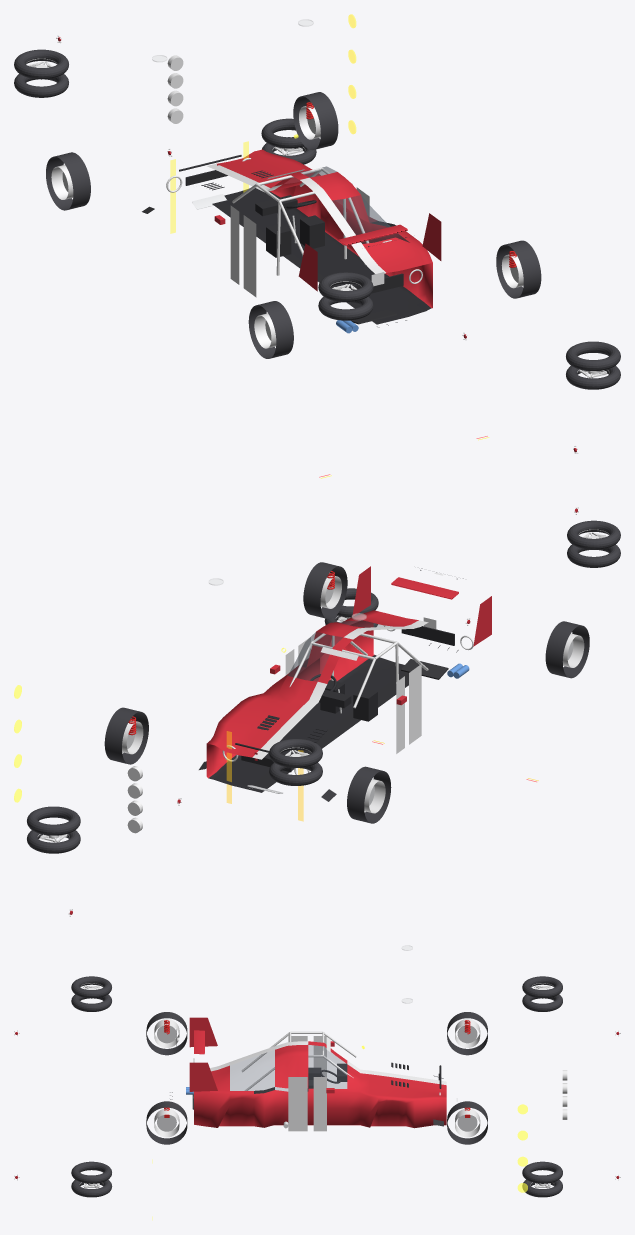
Rendered from APEX_RALLY.glb.
The picture shows the model from 3 angles, top to bottom: view 1: azimuth 30°, elevation 25°; view 2: azimuth 150°, elevation 25°; view 3: azimuth 270°, elevation 25°; orthographic projection. The views are drawn at different scales.
Parts seen in each view (by area): view 1: Unibody_Monocoque, Wheel_RR_Tyre, Wheel_FR_Tyre, Wheel_RL_Tyre, Wheel_FL_Tyre, Wheel_RR_Sidewall_Outer, Wheel_FR_Sidewall_Outer, Wheel_RL_Sidewall_Inner, Door_Stripe_Right, Wheel_RR_Sidewall_Inner, Wheel_FR_Sidewall_Inner, Wheel_FL_Sidewall_Inner (+6 smaller); view 2: Unibody_Monocoque, Wheel_RR_Tyre, Wheel_FR_Tyre, Wheel_FL_Tyre, Wheel_RL_Tyre, Wheel_FL_Sidewall_Inner, Wheel_RR_Sidewall_Outer, Wheel_FR_Sidewall_Outer, Door_Stripe_Right, Wheel_RR_Sidewall_Inner, Wheel_FR_Sidewall_Inner, Wheel_FL_Sidewall_Outer (+6 smaller); view 3: Unibody_Monocoque, Door_Stripe_Left, Placard_Left, Wing_Endplate_Left, Wheel_FL_Sidewall_Inner, Wheel_RL_Sidewall_Inner, Wheel_RR_Sidewall_Outer, Wheel_FR_Sidewall_Outer, Wheel_RL_Tyre, Wheel_RR_Tyre, Wheel_FR_Tyre, Wheel_FL_Tyre (+6 smaller).
Boxes of the visible parts, x1=… form: Unibody_Monocoque: x1=207, y1=149, x2=432, y2=324; Wheel_RR_Tyre: x1=248, y1=301, x2=293, y2=358; Wheel_FR_Tyre: x1=46, y1=152, x2=90, y2=210; Wheel_RL_Tyre: x1=496, y1=240, x2=541, y2=298; Wheel_FL_Tyre: x1=293, y1=92, x2=338, y2=150; Wheel_RR_Sidewall_Outer: x1=318, y1=272, x2=373, y2=302; Wheel_FR_Sidewall_Outer: x1=14, y1=49, x2=68, y2=79; Wheel_RL_Sidewall_Inner: x1=566, y1=341, x2=620, y2=371; Door_Stripe_Right: x1=243, y1=215, x2=256, y2=297; Wheel_RR_Sidewall_Inner: x1=318, y1=296, x2=373, y2=320; Wheel_FR_Sidewall_Inner: x1=14, y1=74, x2=68, y2=97; Wheel_FL_Sidewall_Inner: x1=261, y1=118, x2=304, y2=148; Unibody_Monocoque: x1=206, y1=610, x2=428, y2=792; Wheel_RR_Tyre: x1=545, y1=621, x2=589, y2=678; Wheel_FR_Tyre: x1=347, y1=766, x2=391, y2=823; Wheel_FL_Tyre: x1=104, y1=707, x2=148, y2=764; Wheel_RL_Tyre: x1=303, y1=562, x2=347, y2=618; Wheel_FL_Sidewall_Inner: x1=27, y1=806, x2=80, y2=835; Wheel_RR_Sidewall_Outer: x1=567, y1=520, x2=620, y2=549; Wheel_FR_Sidewall_Outer: x1=269, y1=739, x2=322, y2=767; Door_Stripe_Right: x1=409, y1=664, x2=421, y2=744; Wheel_RR_Sidewall_Inner: x1=567, y1=544, x2=620, y2=567; Wheel_FR_Sidewall_Inner: x1=269, y1=762, x2=322, y2=785; Wheel_FL_Sidewall_Outer: x1=27, y1=830, x2=80, y2=853; Unibody_Monocoque: x1=194, y1=1041, x2=446, y2=1128; Door_Stripe_Left: x1=288, y1=1077, x2=307, y2=1131; Placard_Left: x1=313, y1=1077, x2=326, y2=1131; Wing_Endplate_Left: x1=189, y1=1062, x2=217, y2=1091; Wheel_FL_Sidewall_Inner: x1=522, y1=1161, x2=562, y2=1183; Wheel_RL_Sidewall_Inner: x1=71, y1=1161, x2=111, y2=1183; Wheel_RR_Sidewall_Outer: x1=71, y1=976, x2=111, y2=998; Wheel_FR_Sidewall_Outer: x1=522, y1=976, x2=562, y2=998; Wheel_RL_Tyre: x1=146, y1=1101, x2=187, y2=1144; Wheel_RR_Tyre: x1=146, y1=1012, x2=187, y2=1055; Wheel_FR_Tyre: x1=447, y1=1012, x2=487, y2=1055; Wheel_FL_Tyre: x1=447, y1=1101, x2=487, y2=1144.
Bounding box in the file's own units: 4.7 × 3.97 × 10.1.
